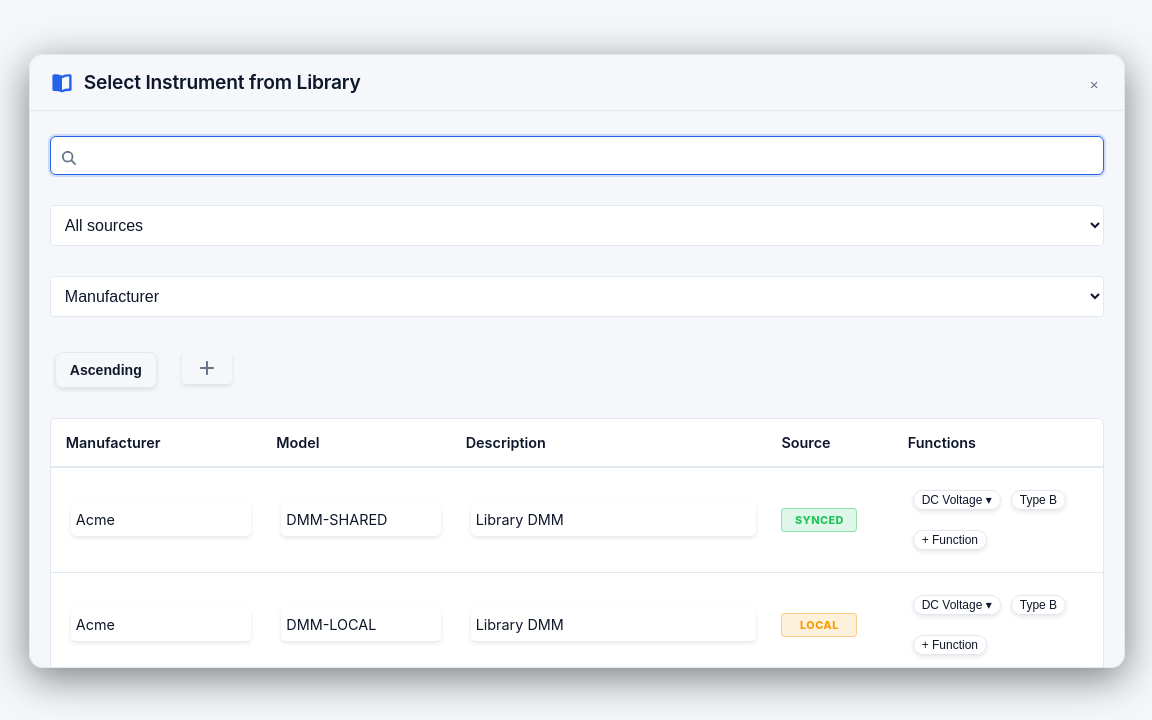
UniversalInstrumentModal library synchronization › shows shared and local source labels in the library list and editor
Expected: the column heading "Source" is shown, x1=766 y1=419 x2=893 y2=467
Expected: the text named "Instrument source: Synced" reads "Synced", x1=795 y1=513 x2=844 y2=527
Step 1. Double-click the text "DMM-LOCAL" → (577, 625), box x1=51 y1=572 x2=1103 y2=677
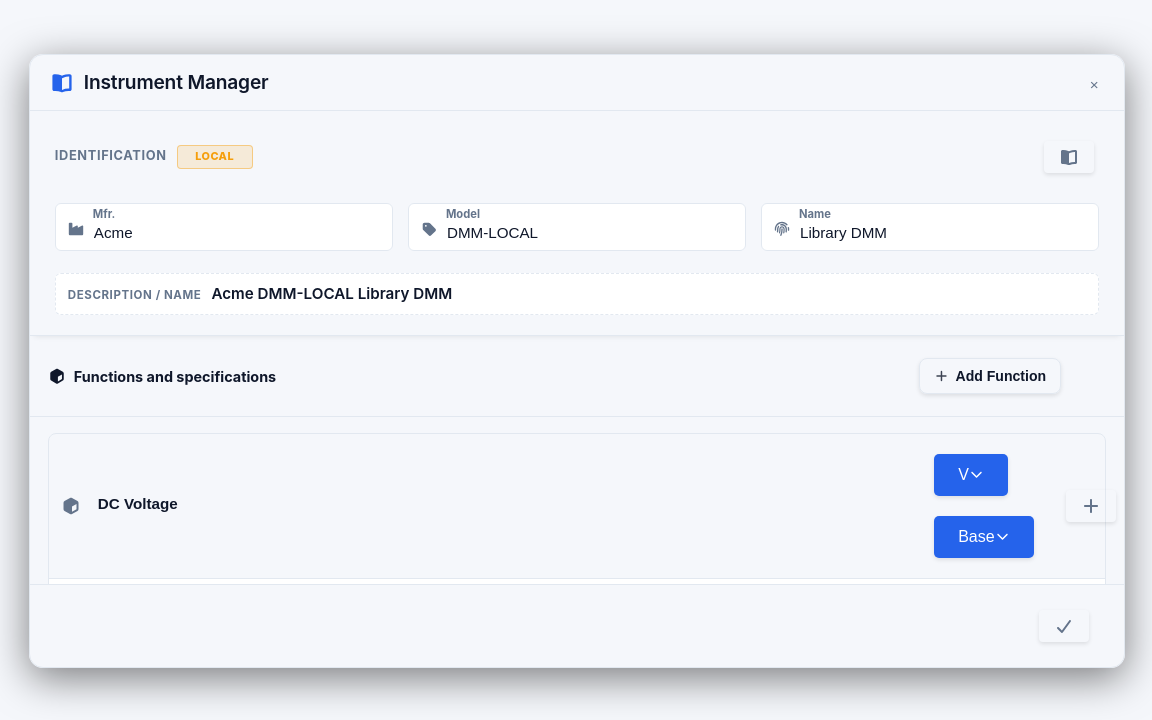
Expected: the text named "Instrument source: Local" reads "Local", x1=195 y1=149 x2=234 y2=163
Result: the text "Identification" is shown at x1=55 y1=146 x2=167 y2=167
